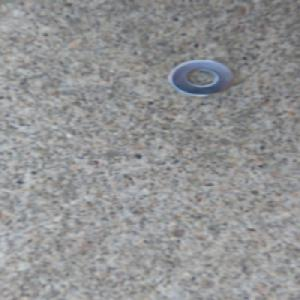Washer: (166, 58, 236, 98)
